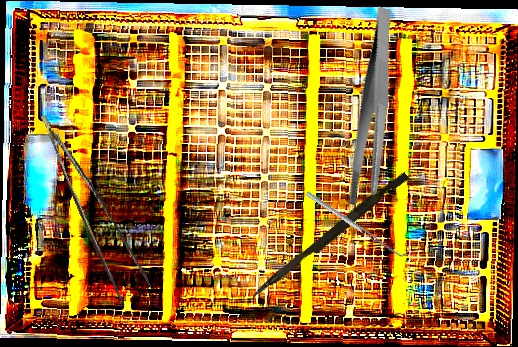Dressing Forceps: (306, 6, 442, 211)
Pusher: (250, 167, 410, 305)
Spatula Surgical: (305, 187, 410, 262)
Tissue Forceps: (40, 102, 155, 310)
